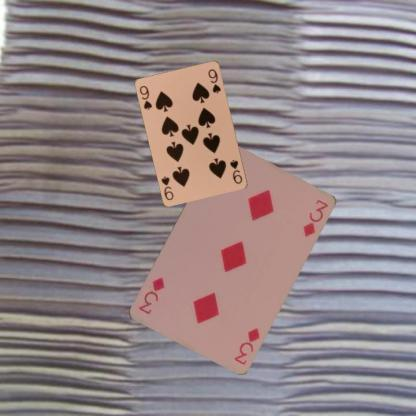3d: (231, 325, 261, 366)
9s: (137, 83, 153, 112), (228, 157, 244, 185)
